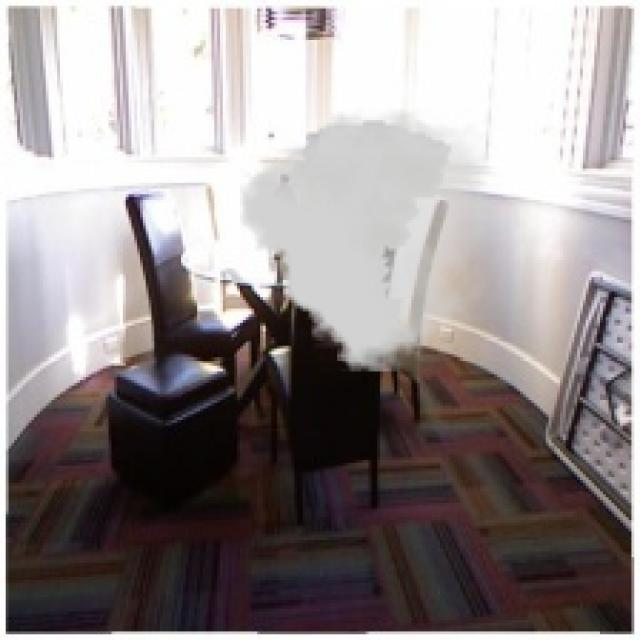smoke: (240, 108, 489, 372)
